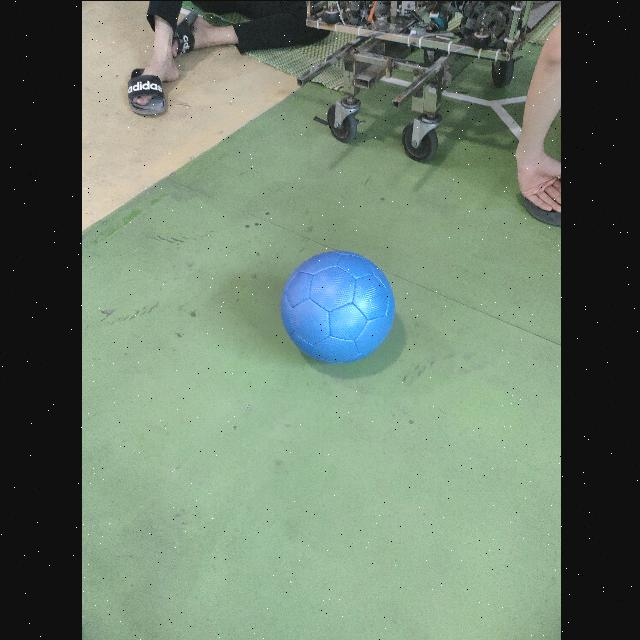B: (278, 250, 396, 366)
